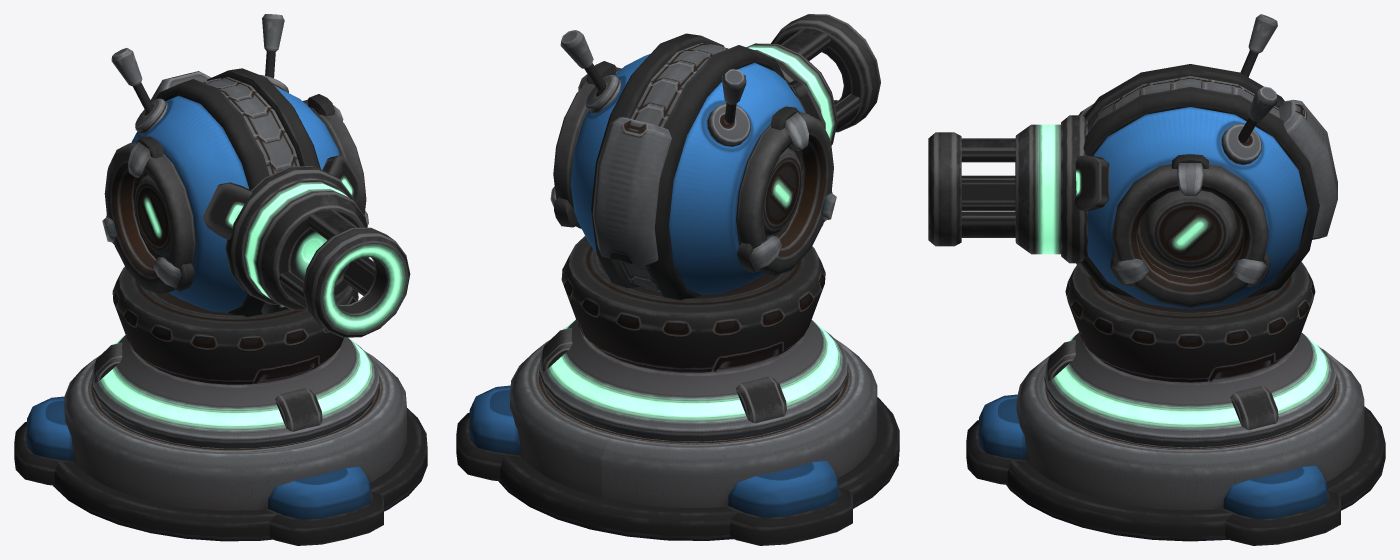
The model's file is Laser_Blue_1.gltf.
The picture shows the model from 3 angles, left to right: view 1: azimuth 30°, elevation 25°; view 2: azimuth 150°, elevation 25°; view 3: azimuth 270°, elevation 25°; orthographic projection. The views are drawn at different scales.
Parts seen in each view (by area): view 1: l2_base, l2_mid, l2_main, l2_barrel1, l2_side; view 2: l2_base, l2_main, l2_mid, l2_side, l2_barrel1; view 3: l2_base, l2_main, l2_mid, l2_barrel1, l2_side.
Boxes of the visible parts, box(x1,y1,x2,y2) form: l2_base: box(14, 352, 427, 545); l2_mid: box(91, 266, 379, 448); l2_main: box(111, 14, 339, 316); l2_barrel1: box(202, 155, 410, 337); l2_side: box(102, 94, 368, 294); l2_base: box(456, 338, 899, 545); l2_main: box(560, 30, 805, 300); l2_mid: box(539, 236, 848, 441); l2_side: box(550, 61, 836, 275); l2_barrel1: box(746, 14, 880, 145); l2_base: box(966, 349, 1385, 545); l2_main: box(1080, 14, 1337, 309); l2_mid: box(1044, 261, 1336, 447); l2_barrel1: box(928, 103, 1109, 277); l2_side: box(1110, 154, 1270, 307).
Size of the model in its own units: 0.7381 by 0.79 by 0.803.
Materials: 1 (1 with a texture image).
